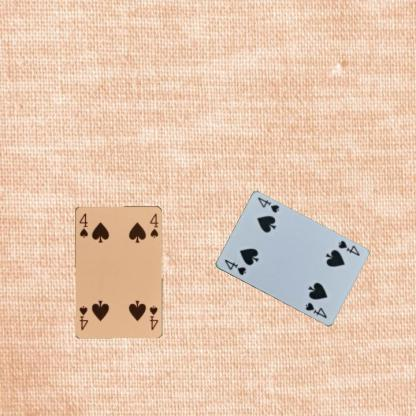4s: (335, 238, 361, 257), (222, 257, 247, 276), (76, 210, 89, 239), (147, 303, 159, 331)
